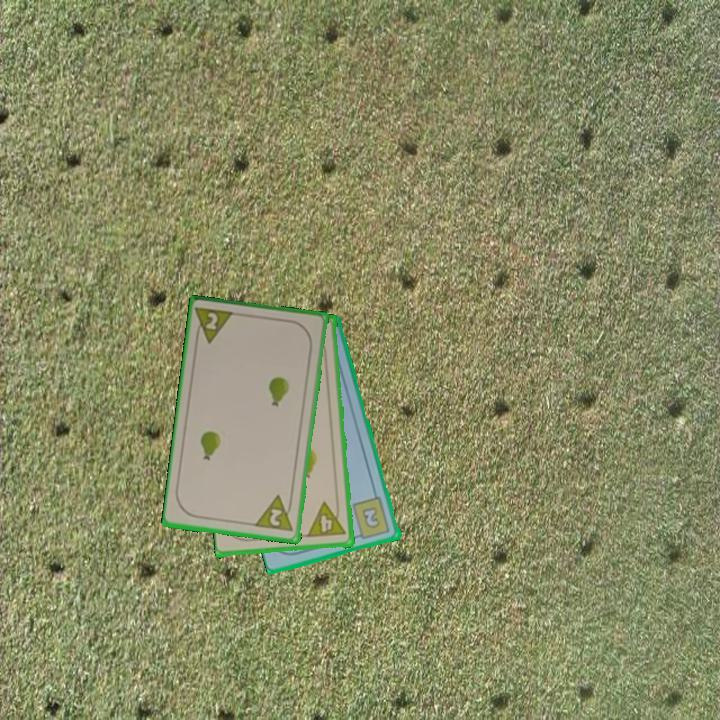2b: (349, 494, 393, 542)
2p: (191, 304, 238, 347), (253, 492, 296, 535)
4p: (305, 499, 349, 541)
